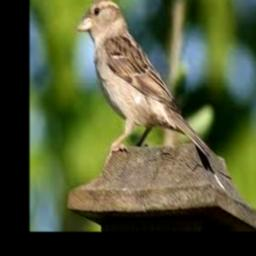Sparrow: (78, 0, 209, 161)
